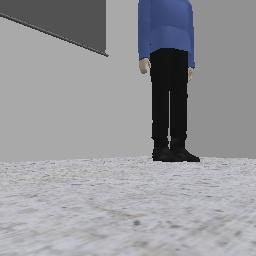persoana: (139, 0, 199, 161)
